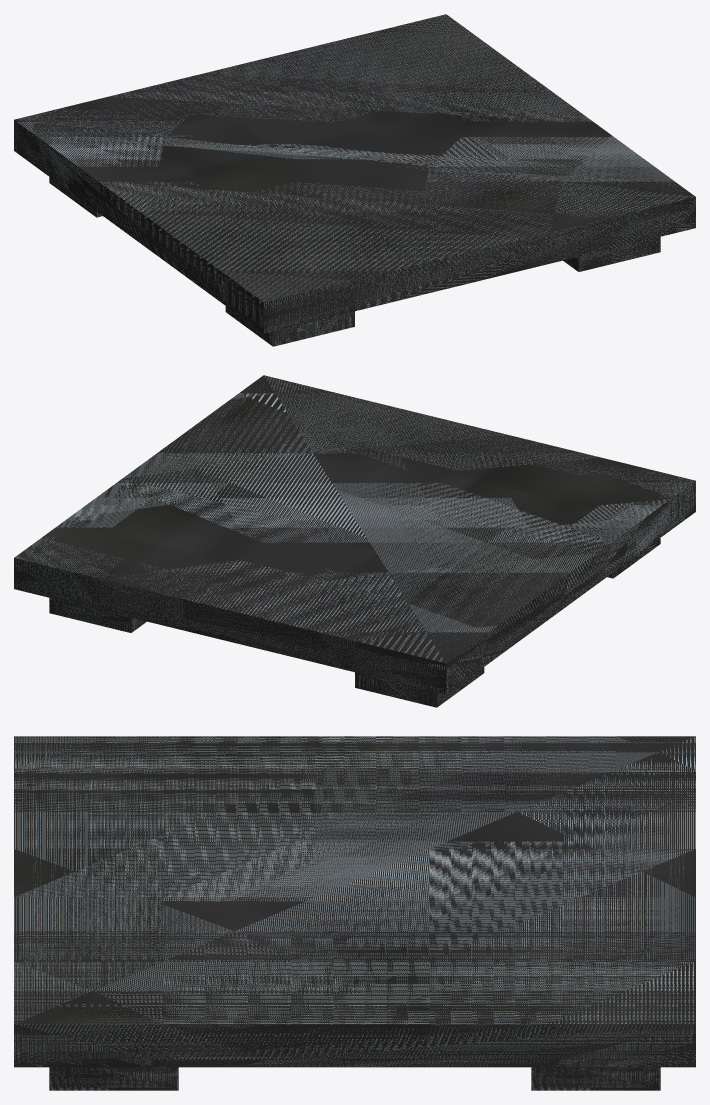
Rendered from pad.fbx.
3 views of the same model, one above another, from view 1: azimuth 30°, elevation 25°; view 2: azimuth 150°, elevation 25°; view 3: azimuth 270°, elevation 25° (orthographic). The views are drawn at different scales.
Visible parts, largest first — view 1: Group1; view 2: Group1; view 3: Group1.
Part boxes in pixels (x1,y1,x2,y2): Group1: (14, 14, 695, 346); Group1: (14, 375, 695, 707); Group1: (14, 736, 695, 1090).
Bounding box in the file's own units: 580 × 76 × 580.
